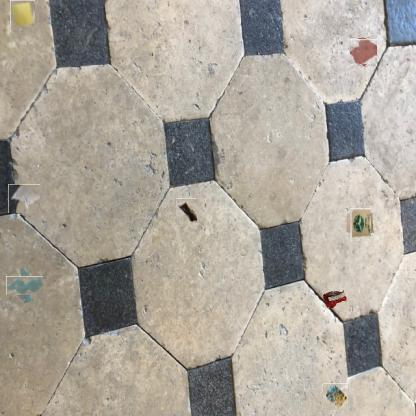dirty: (8, 184, 40, 213), (347, 211, 374, 237), (322, 384, 349, 410), (10, 0, 35, 27), (175, 199, 198, 223), (322, 288, 346, 308)
liquid: (10, 272, 39, 300), (350, 39, 377, 65)
